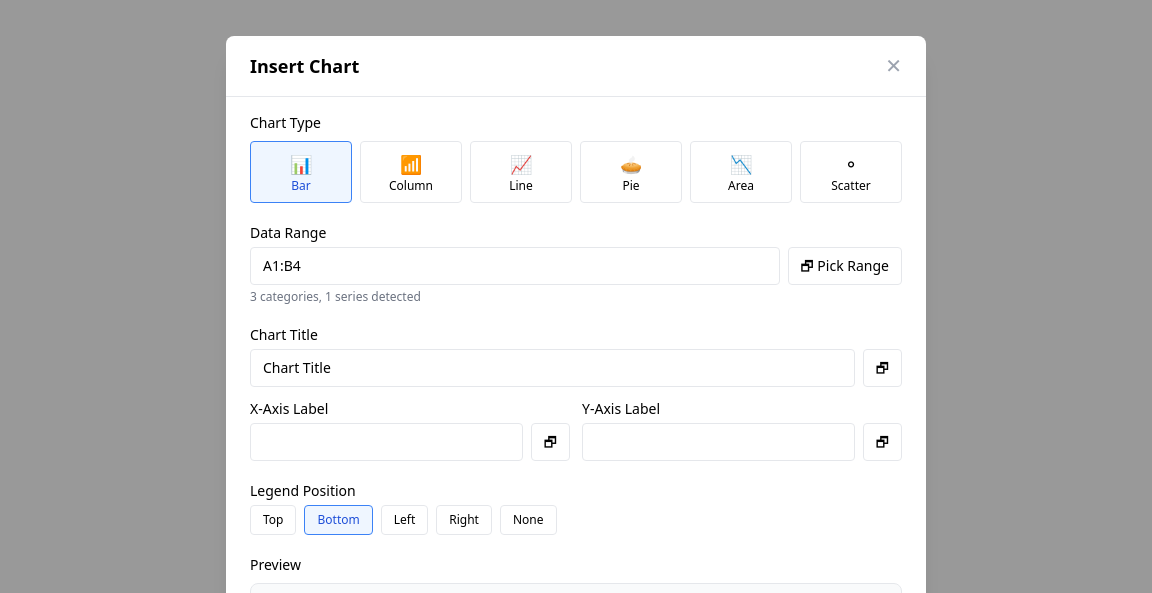
Test: ChartDialog › changes legend position on click
This screenshot has width=1152, height=593.
Click the button with test id "legend-right" at (464,520), box [436, 505, 492, 535]
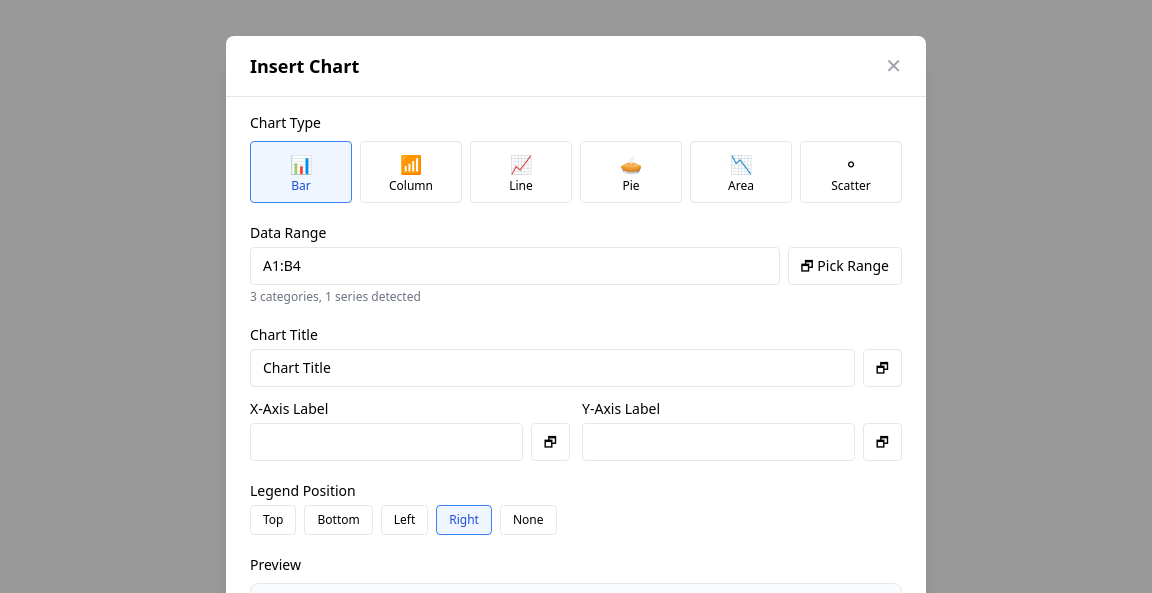
Expected: the button with test id "legend-right" has class "bg-blue-50", [436, 505, 492, 535]
